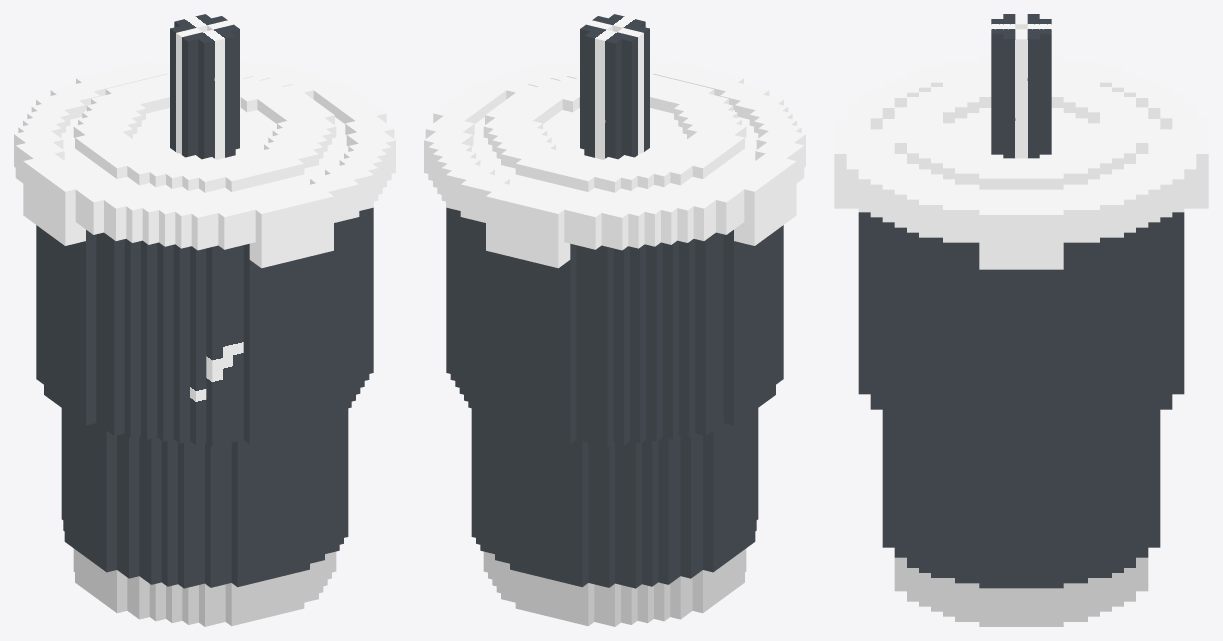
File: 耗子尾汁.gltf
3 views of the same model, side by side, from view 1: azimuth 30°, elevation 25°; view 2: azimuth 150°, elevation 25°; view 3: azimuth 270°, elevation 25° (orthographic).
Visible parts, largest first — view 1: Object; view 2: Object; view 3: Object.
Boxes of the visible parts, <box> form: Object: <box>14,14,395,626</box>; Object: <box>424,14,805,626</box>; Object: <box>834,14,1208,626</box>.
Size of the model in its own units: 31 by 50 by 31.
1 material, 1 textured.
